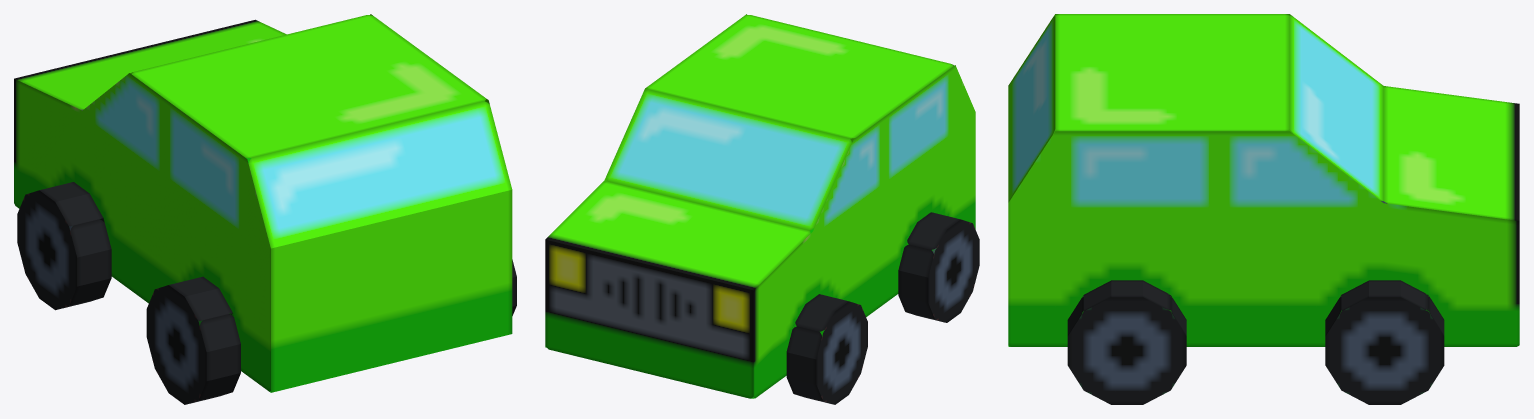
File: car2.fbx
The picture shows the model from 3 angles, left to right: view 1: azimuth 30°, elevation 25°; view 2: azimuth 150°, elevation 25°; view 3: azimuth 270°, elevation 25°; orthographic projection. The views are drawn at different scales.
Visible parts, largest first — view 1: mesh, cylinder, cylinder_1; view 2: mesh, cylinder_1, cylinder; view 3: mesh, cylinder_2, cylinder_3.
Boxes of the visible parts, x1,y1,x2,y2 form: mesh: (14,14,512,392); cylinder: (17,182,111,310); cylinder_1: (146,276,240,404); mesh: (545,14,975,398); cylinder_1: (898,212,979,322); cylinder: (786,294,867,404); mesh: (1008,14,1519,346); cylinder_2: (1325,280,1444,404); cylinder_3: (1067,280,1186,404).
Size of the model in its own units: 56.25 by 44.69 by 80.62.
1 material, 1 textured.
